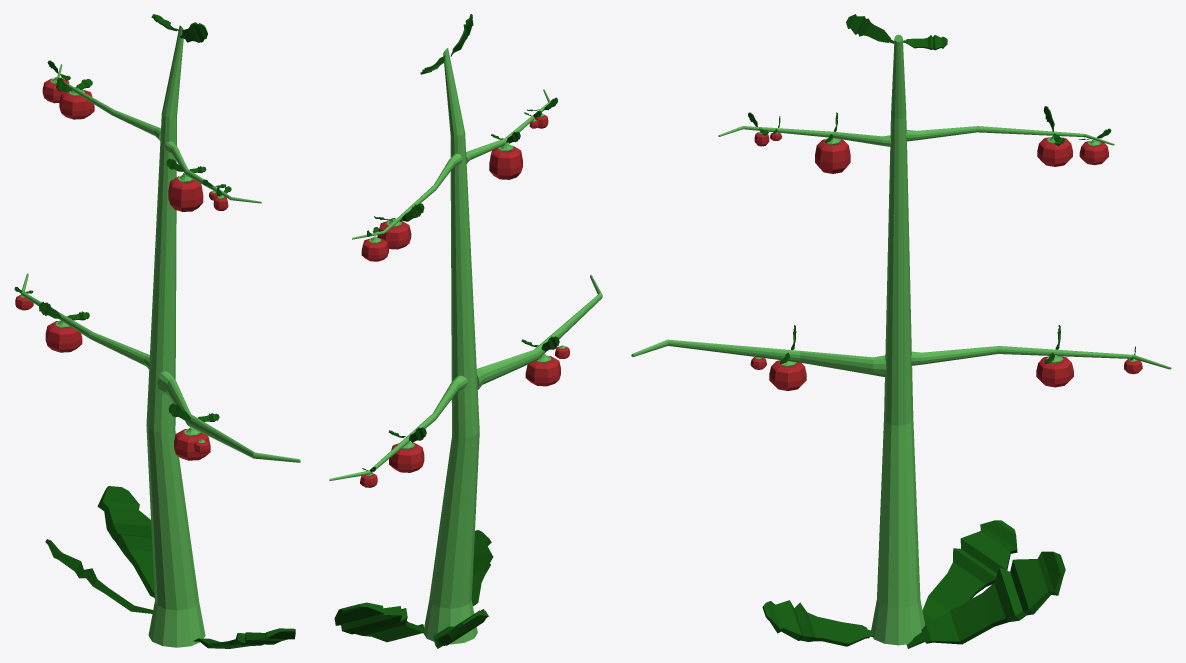
The model's file is tomate.fbx.
3 views of the same model, side by side, from view 1: azimuth 30°, elevation 25°; view 2: azimuth 150°, elevation 25°; view 3: azimuth 270°, elevation 25° (orthographic). The views are drawn at different scales.
Visible parts, largest first — view 1: Cylinder, Cylinder.002, Cylinder.001, Cube.002, Cube.004, Cube.003; view 2: Cylinder, Cylinder.002, Cylinder.001, Cube.002, Cube.004, Cube.003; view 3: Cylinder, Cylinder.001, Cube.002, Cylinder.002, Cube.003, Cube.004.
Boxes of the visible parts, left/top/right/bottom form: Cylinder: left=146, top=25, right=205, bottom=647; Cylinder.002: left=15, top=77, right=228, bottom=460; Cylinder.001: left=20, top=64, right=300, bottom=462; Cube.002: left=97, top=486, right=154, bottom=597; Cube.004: left=193, top=628, right=295, bottom=648; Cube.003: left=45, top=539, right=152, bottom=613; Cylinder: left=423, top=48, right=479, bottom=644; Cylinder.002: left=360, top=113, right=569, bottom=487; Cylinder.001: left=329, top=89, right=602, bottom=480; Cube.002: left=334, top=602, right=424, bottom=642; Cube.004: left=471, top=530, right=493, bottom=606; Cube.003: left=433, top=609, right=488, bottom=648; Cylinder: left=871, top=34, right=925, bottom=645; Cylinder.001: left=631, top=126, right=1171, bottom=376; Cube.002: left=906, top=551, right=1065, bottom=648; Cylinder.002: left=750, top=131, right=1142, bottom=390; Cube.003: left=922, top=520, right=1017, bottom=624; Cube.004: left=762, top=600, right=873, bottom=646.
Size of the model in its own units: 80.04 by 346 by 272.
